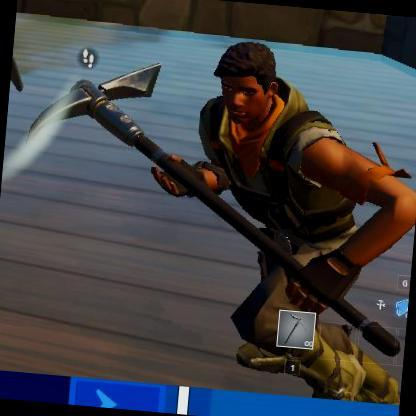person: (207, 54, 383, 386)
